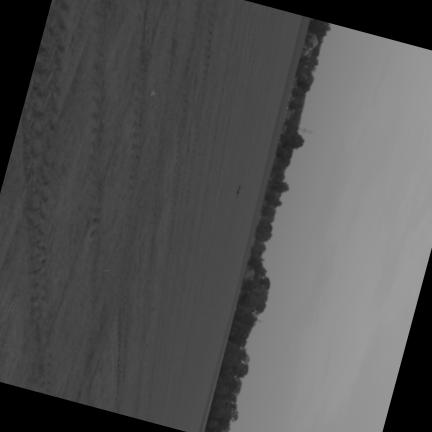Shahed: (235, 186, 239, 198)
